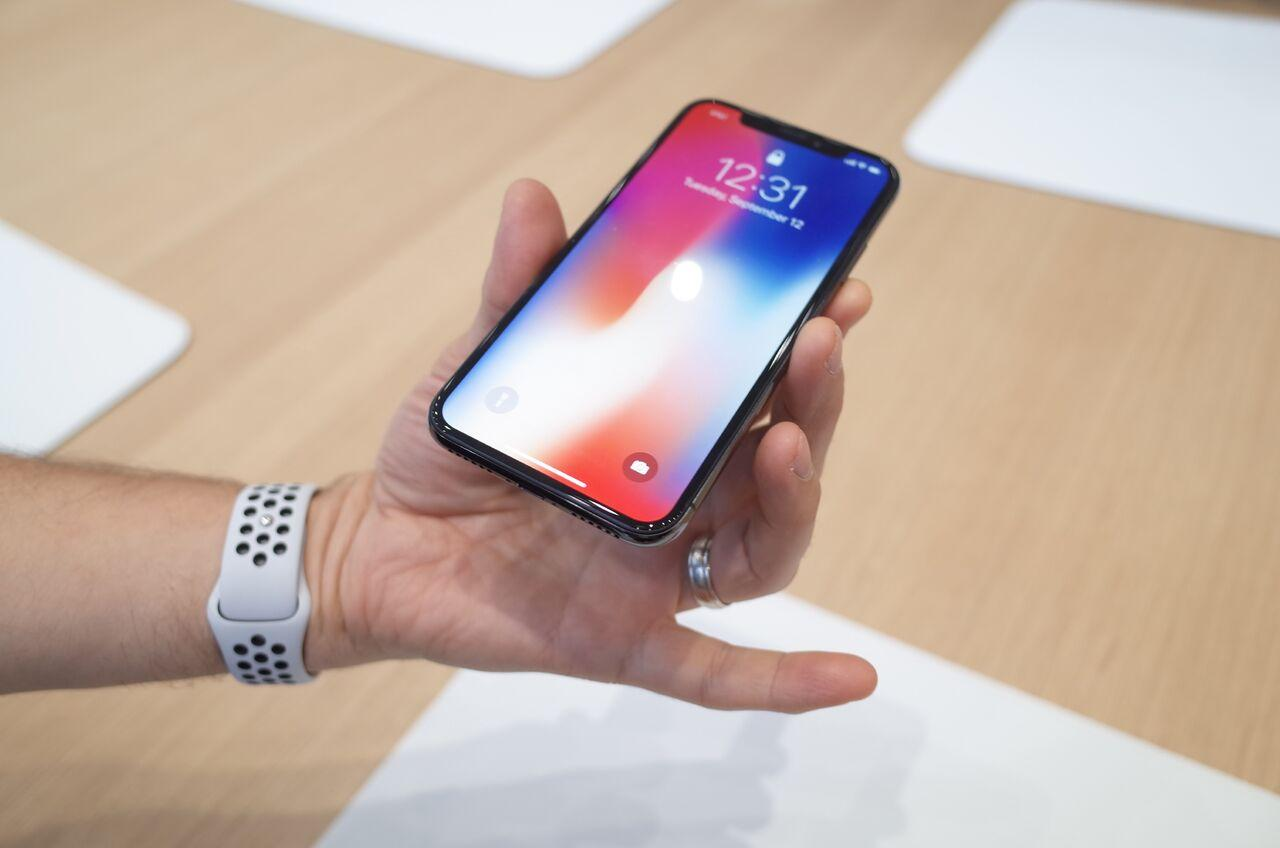smartphone: (427, 97, 903, 551)
